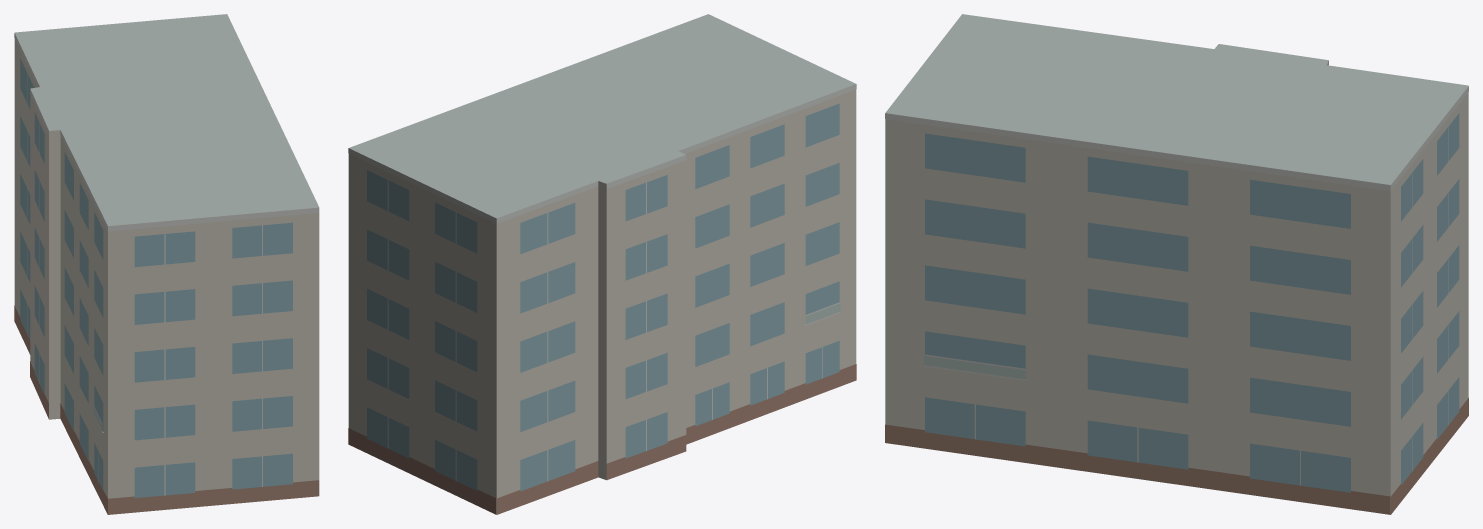
The model's file is survey-upis-32710350.glb.
The picture shows the model from 3 angles, left to right: view 1: azimuth 30°, elevation 25°; view 2: azimuth 150°, elevation 25°; view 3: azimuth 270°, elevation 25°; orthographic projection. The views are drawn at different scales.
Visible parts, largest first — view 1: survey-upis-32710350.tmp; view 2: survey-upis-32710350.tmp; view 3: survey-upis-32710350.tmp.
Boxes of the visible parts, x1=… form: survey-upis-32710350.tmp: x1=14, y1=14, x2=319, y2=514; survey-upis-32710350.tmp: x1=348, y1=14, x2=856, y2=514; survey-upis-32710350.tmp: x1=885, y1=14, x2=1468, y2=514.
Bounding box in the file's own units: 14.97 × 13.45 × 21.58.
